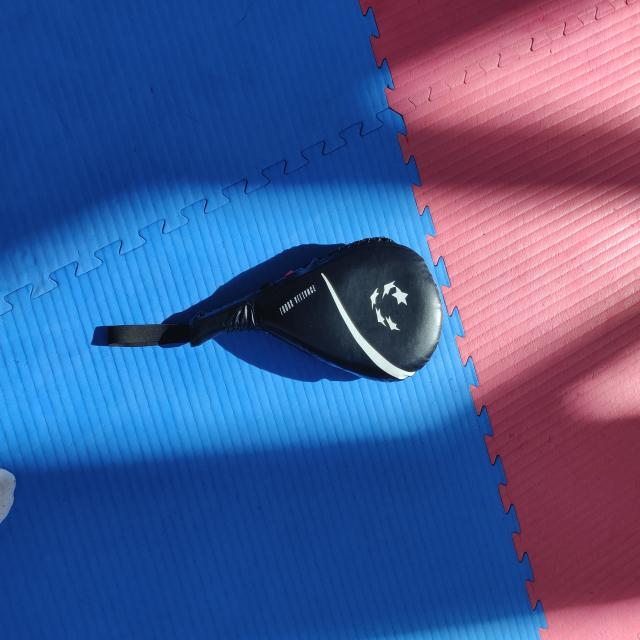paddle: (188, 235, 444, 385)
